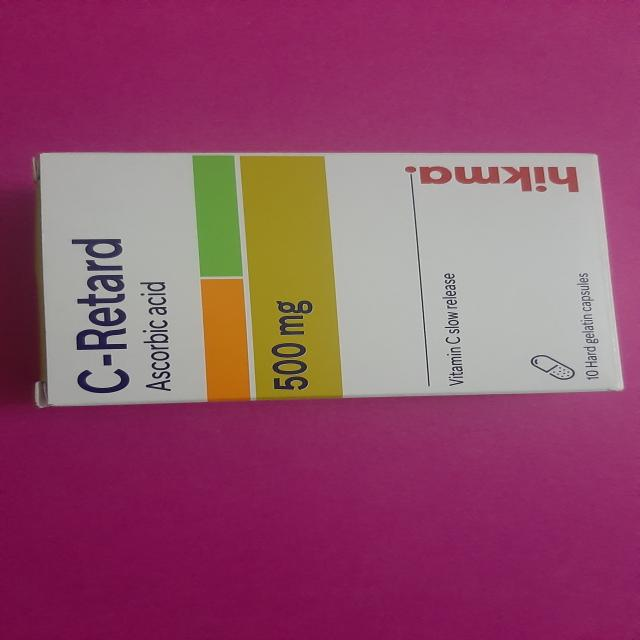C-Retard: (26, 143, 628, 412)
